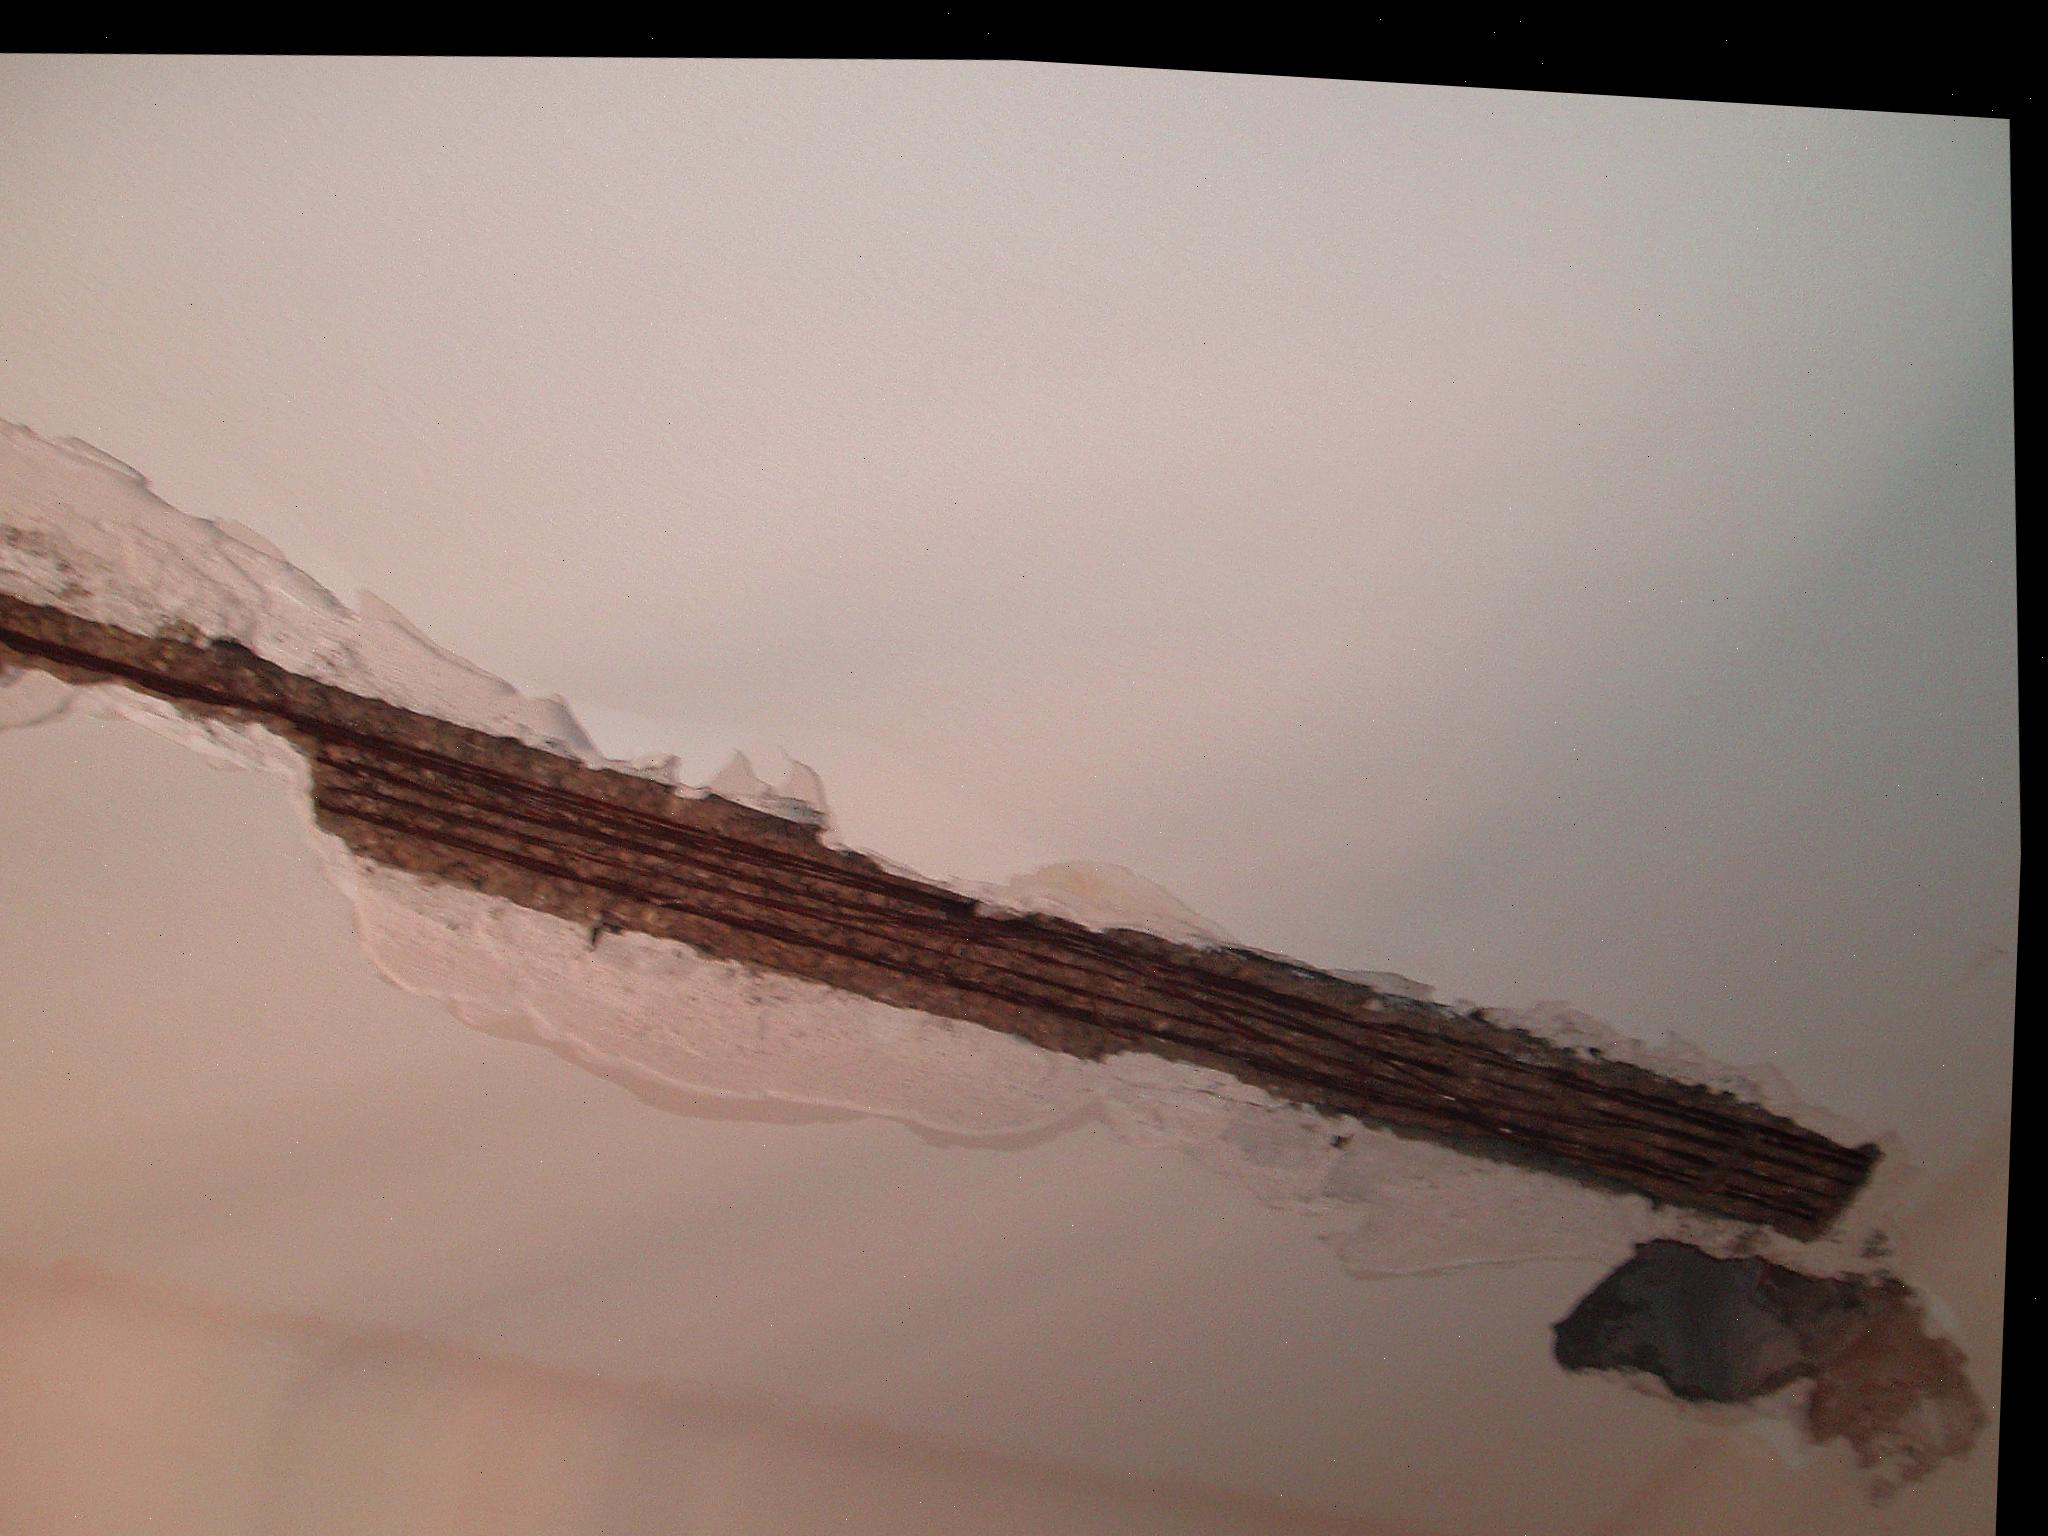spalling: (0, 592, 1885, 1242)
